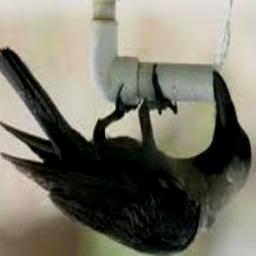Crow: (0, 48, 252, 256)
